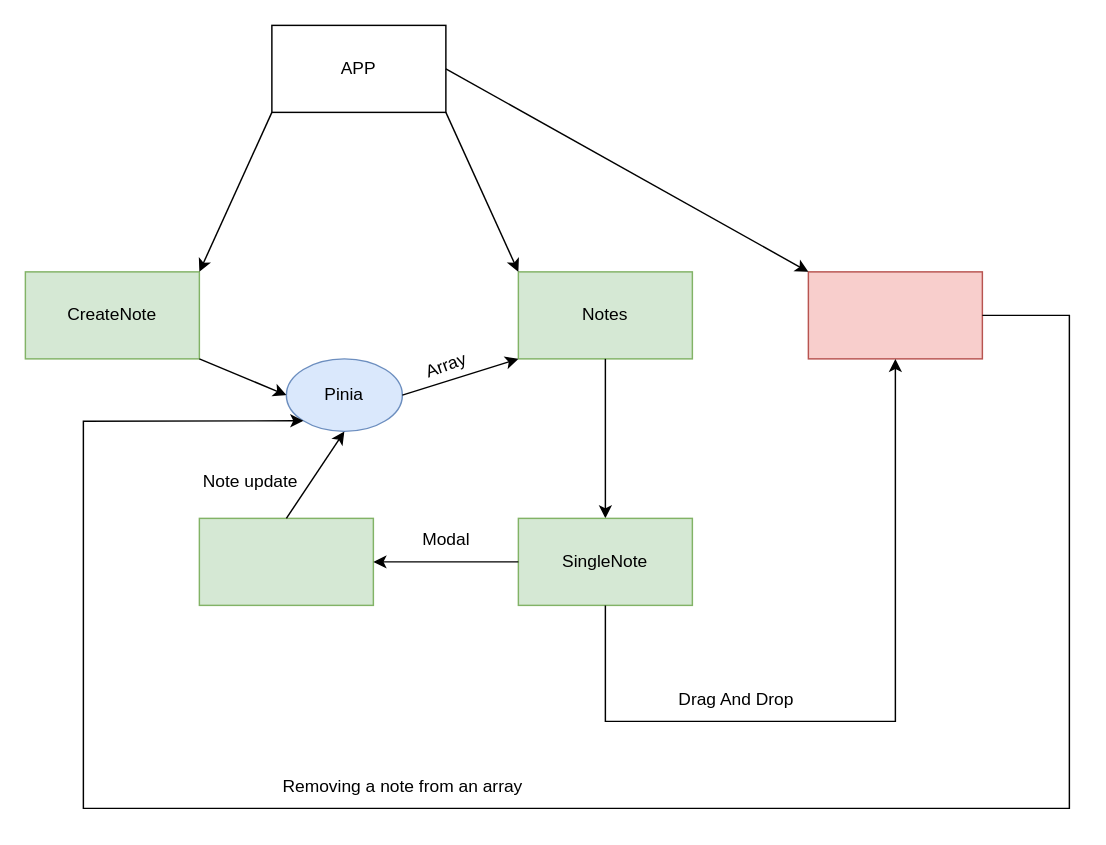
Some shapes in this 1106 by 845 pixel diagram are drawn without their labels. The centre of each missing label's shape, as x and y in pixels:
"EditNote" goes at point (285, 561).
"Trash" goes at point (894, 314).
